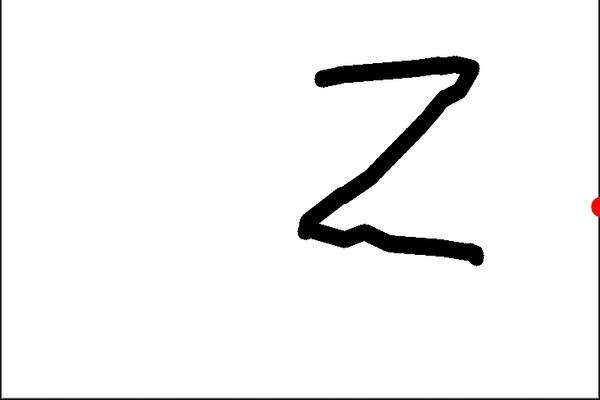Z: (292, 49, 491, 275)
